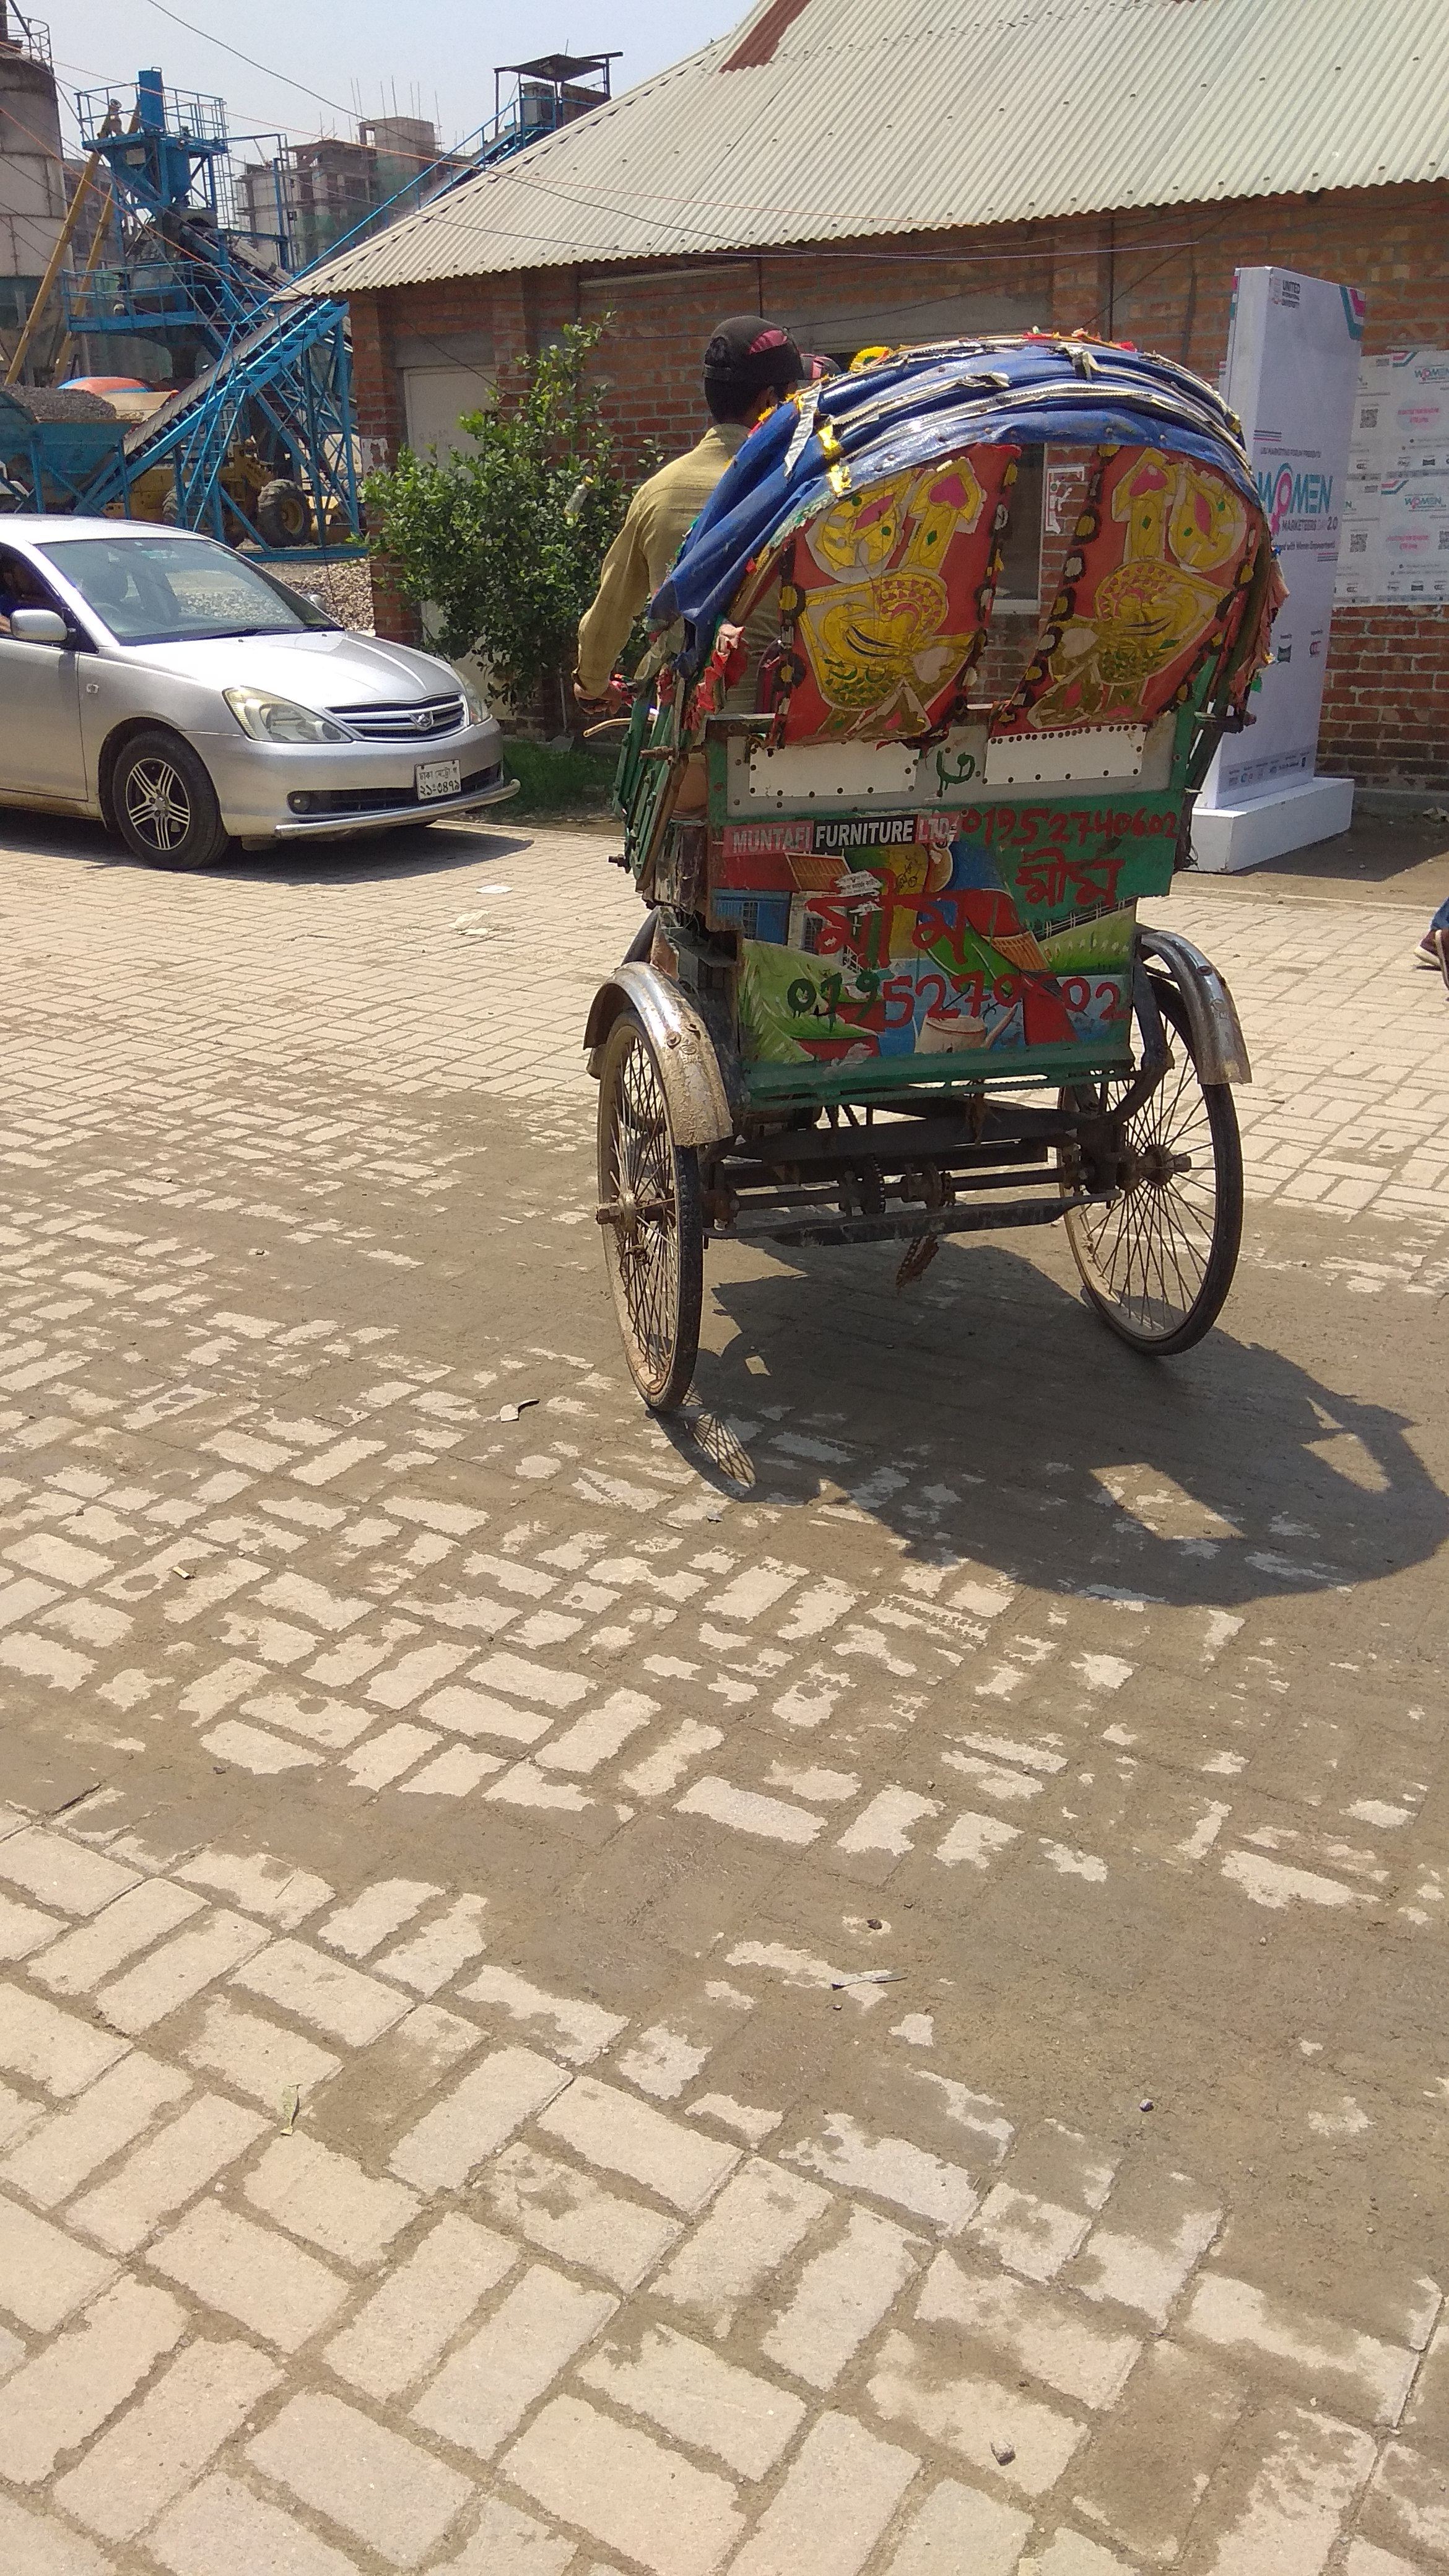Rickshaw: (584, 395, 1284, 1361)
